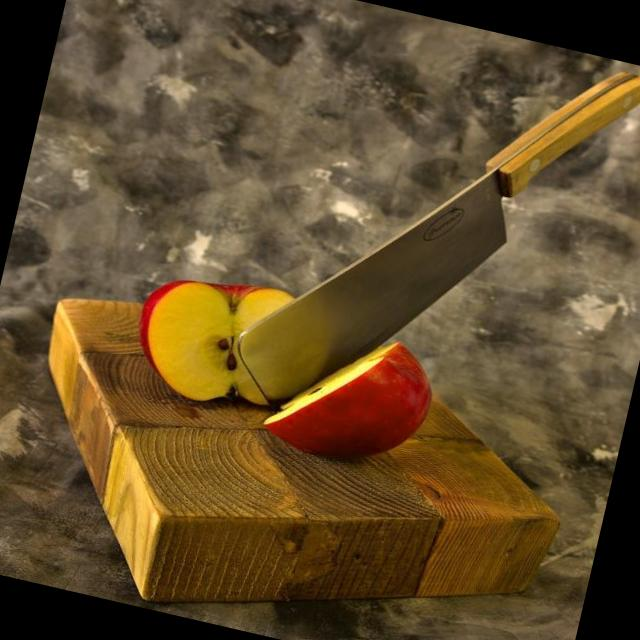Knife: (231, 72, 640, 404)
